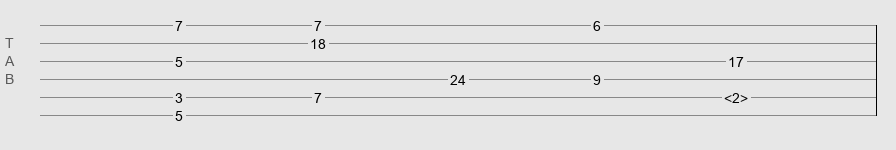17: (728, 54, 744, 64)
18: (310, 36, 326, 46)
24: (450, 72, 466, 82)
3: (175, 90, 183, 100)
5: (175, 108, 183, 118), (175, 54, 183, 64)
6: (593, 18, 601, 28)
7: (175, 18, 183, 28), (314, 18, 322, 28), (314, 90, 322, 100)
9: (593, 72, 601, 82)
harmonic: (724, 90, 748, 100)
